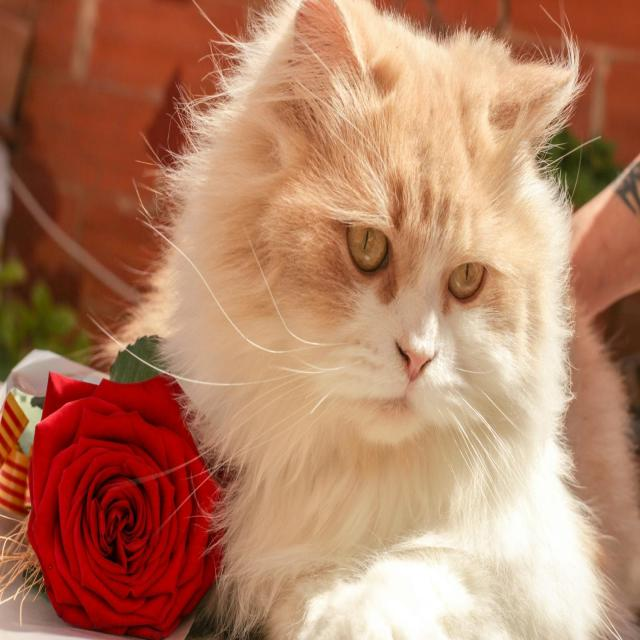Cat: (82, 0, 638, 638)
